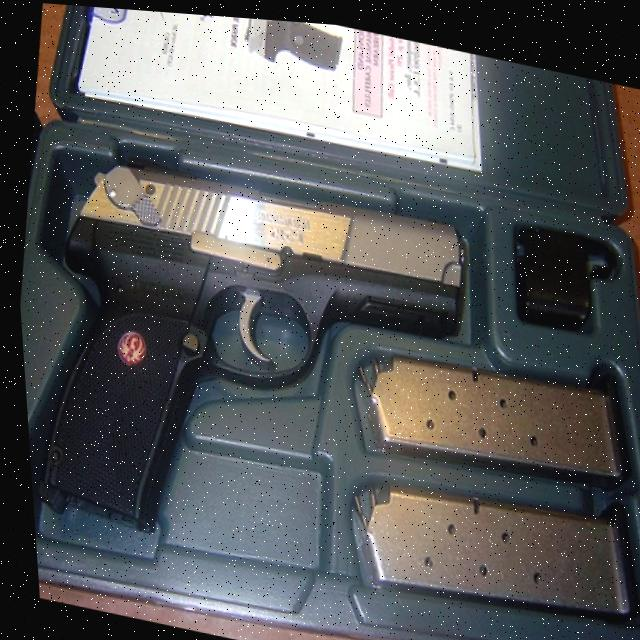pistol: (6, 124, 490, 600), (235, 14, 346, 71)
